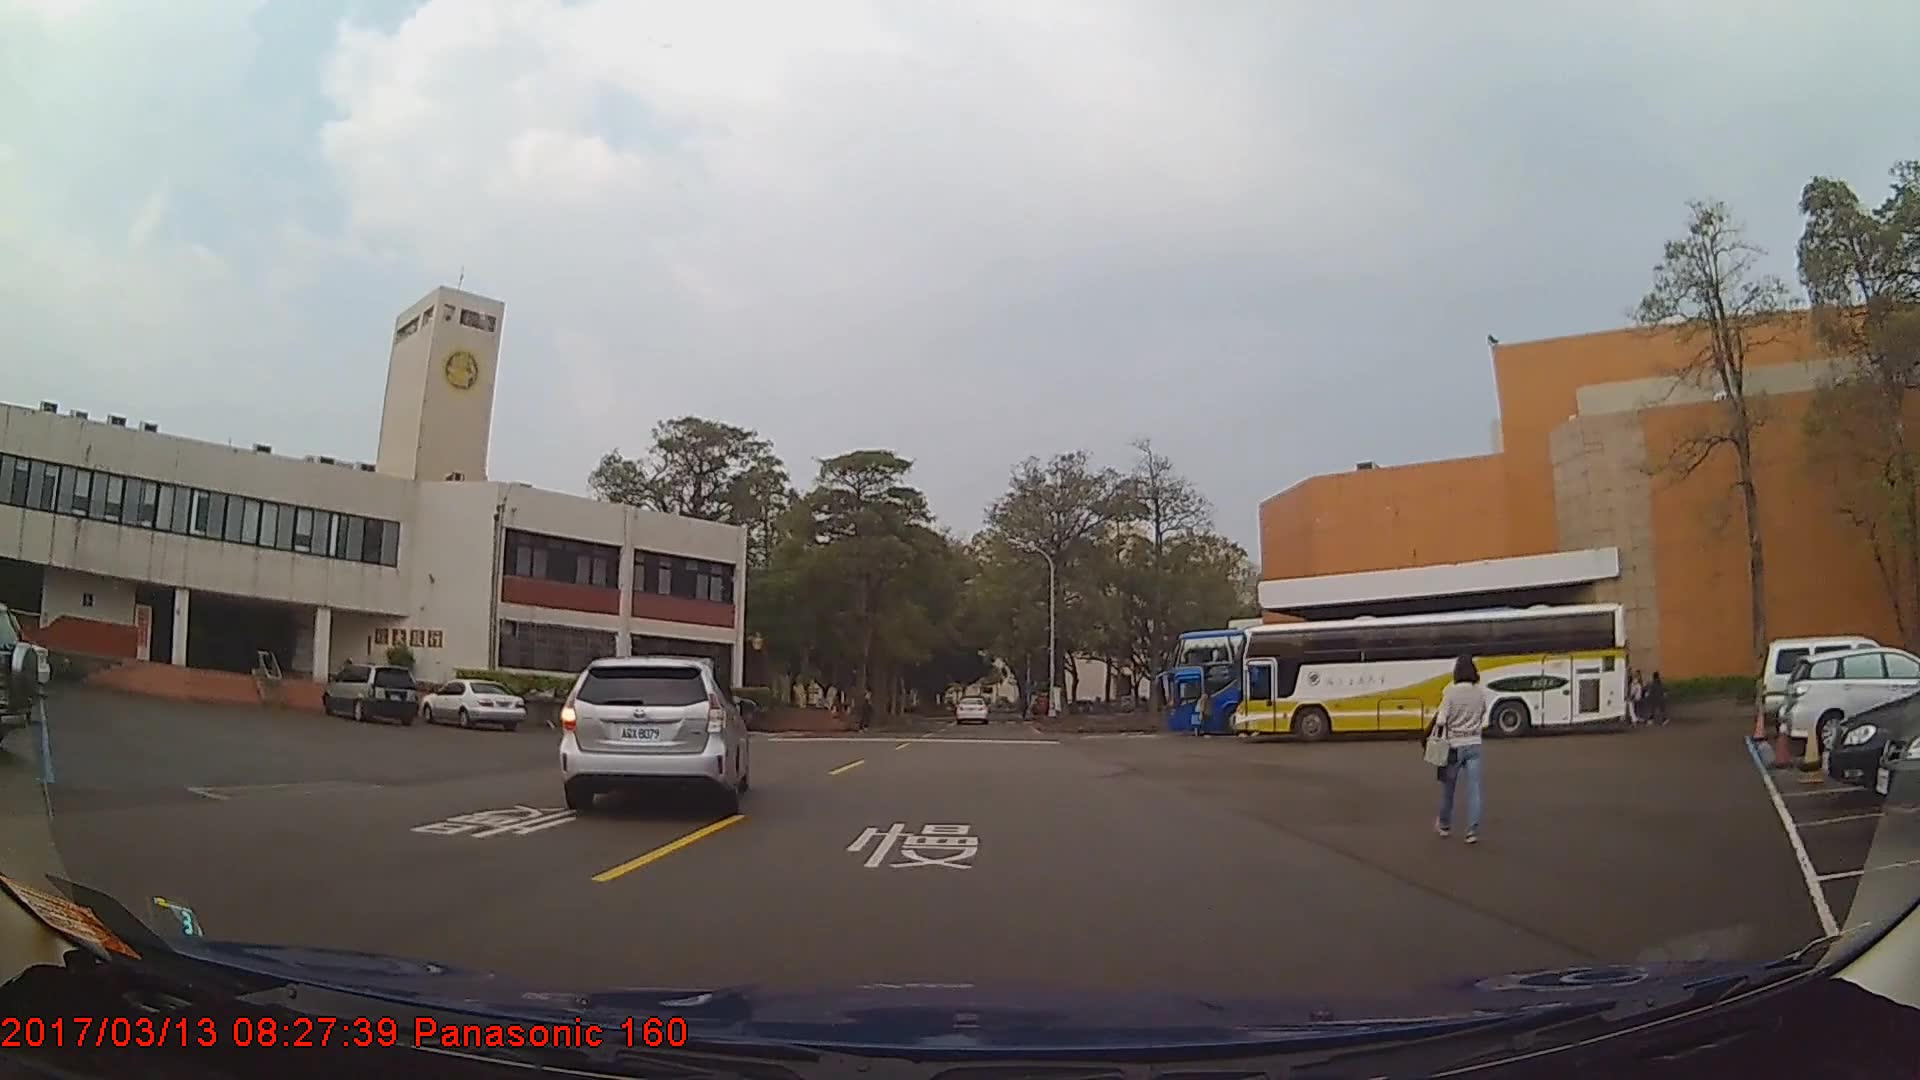pedestrian: (1421, 653, 1487, 845), (1642, 665, 1675, 731)
vehicle: (1231, 602, 1631, 747), (1163, 629, 1514, 738), (560, 649, 752, 806), (1778, 647, 1919, 753), (1755, 635, 1882, 731), (318, 665, 418, 725), (417, 678, 524, 729), (956, 696, 988, 725)
